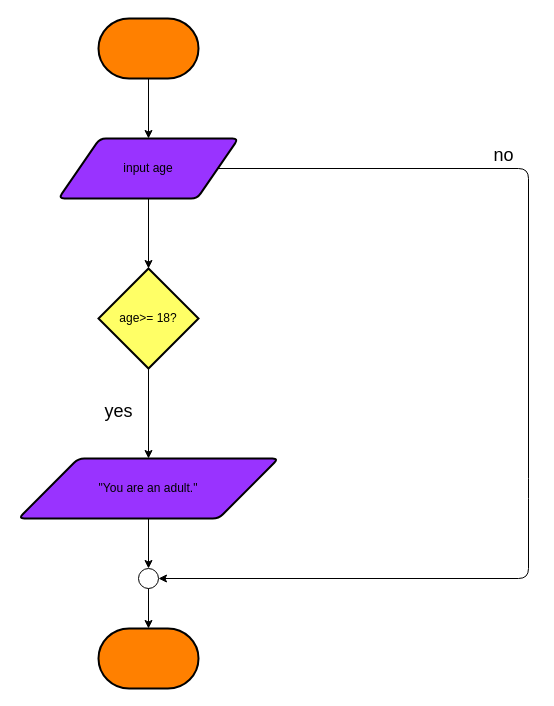
Some shapes in this 554 by 706 pixel diagram are drawn without their labels. The centre of each missing label's shape, as x and y in pixels:
"end" belongs at pixel 148 658.
"start" belongs at pixel 148 48.
